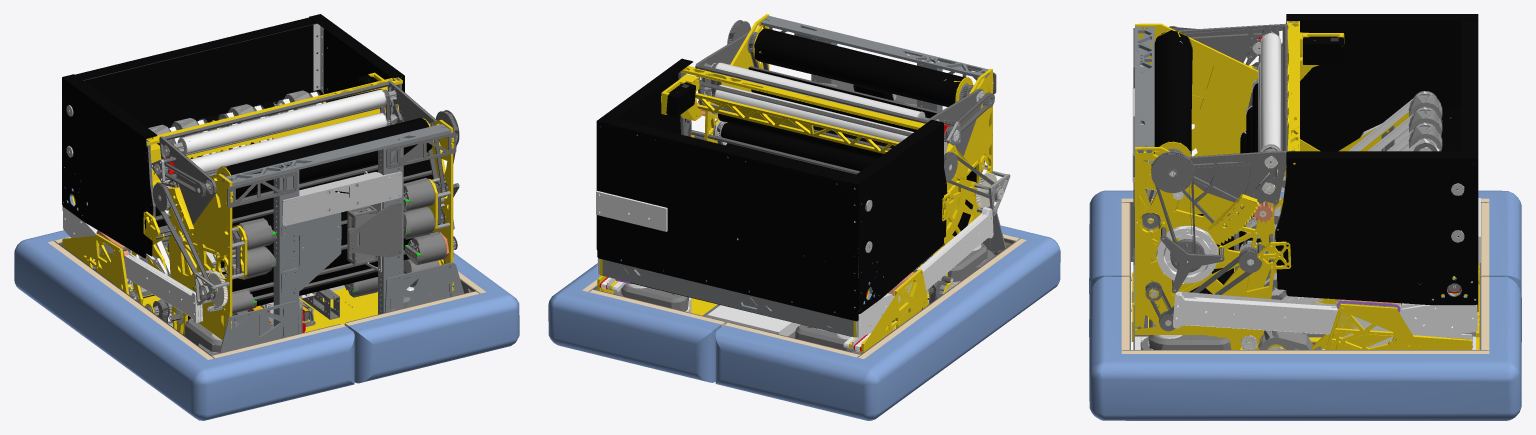
Rendered from ChisyPufs.fbx.
The picture shows the model from 3 angles, left to right: view 1: azimuth 30°, elevation 25°; view 2: azimuth 150°, elevation 25°; view 3: azimuth 270°, elevation 25°; orthographic projection. The views are drawn at different scales.
Parts seen in each view (by area): view 1: Bumper foam-01, 3354-2026-CS2-2000-PC 1.5mm N1-1, 3354-2026-CS2-2000-PC 1.5mm N1-3, Bumper foam-02, 3354-2026CS-4000-PL_70_1/4_AL-07, Policarbonate Tube, Part 1.004, 3354-2026-CS2-LL-PETG-1, 3354-2026CS-4000-PL_1.5M_PC-03, Part 1.003, Part 1.008, 3354-2026CS-4000-PL_70_1/4_AL-05 (+38 smaller); view 2: 3354-2026-CS2-2000-PC 1.5mm N1-1, Bumper foam-01, 3354-2026-CS2-2000-PC 1.5mm N1-3, Bumper foam-02, Policarbonate Tube, 3354-2026-CS2-2000-AL7075-0.25-2.001, 3354-2026CS-4000-PL_70_1/4_AL-07, 3354-2026CS-4000-PL_70_1/4_AL-12, 3354-2026CS-4000-PL_70_1/4_AL-05, 3354-2026-CS2-2000-PC-6mm-6, Part 1.006, Part 1.003 (+26 smaller); view 3: Bumper foam-02, 3354-2026-CS2-2000-PC 1.5mm N1-2, 3354-2026CS-4000-PL_1.5M_PC-02, 3354-2026CS-4000-PL_70_1/4_AL-01, 3354-2026-CS2-2000-PC-6mm-1, 3354-2026CS-4000-PL_70_1/4_AL-07, Bumper foam-01, Policarbonate Tube, 3354-2026-CS2-4000-Hood-AL7075 - 1/4-1.001, 3354-2026-CS2-2000-AL7075-0.25-1, 3354-2026CS-4000-PL_70_1/4_AL-05, 3354-2026-CS2-2000-PC 1.5mm N1-1 (+35 smaller).
Part boxes in pixels (x1,y1,x2,y2): Bumper foam-01: [14, 230, 354, 420]; 3354-2026-CS2-2000-PC 1.5mm N1-1: [62, 17, 318, 210]; 3354-2026-CS2-2000-PC 1.5mm N1-3: [62, 74, 157, 258]; Bumper foam-02: [348, 253, 519, 383]; 3354-2026CS-4000-PL_70_1/4_AL-07: [168, 173, 232, 340]; Policarbonate Tube: [221, 118, 432, 197]; Part 1.004: [181, 89, 385, 154]; 3354-2026-CS2-LL-PETG-1: [282, 171, 402, 225]; 3354-2026CS-4000-PL_1.5M_PC-03: [220, 152, 434, 296]; Part 1.003: [190, 113, 386, 173]; Part 1.008: [281, 212, 341, 294]; 3354-2026CS-4000-PL_70_1/4_AL-05: [222, 124, 450, 185]; 3354-2026-CS2-2000-PC 1.5mm N1-1: [597, 119, 858, 321]; Bumper foam-01: [715, 225, 1060, 420]; 3354-2026-CS2-2000-PC 1.5mm N1-3: [847, 120, 943, 314]; Bumper foam-02: [548, 263, 721, 382]; Policarbonate Tube: [754, 28, 965, 106]; 3354-2026-CS2-2000-AL7075-0.25-2.001: [602, 259, 853, 336]; 3354-2026CS-4000-PL_70_1/4_AL-07: [930, 68, 993, 285]; 3354-2026CS-4000-PL_70_1/4_AL-12: [695, 92, 899, 153]; 3354-2026CS-4000-PL_70_1/4_AL-05: [760, 16, 990, 78]; 3354-2026-CS2-2000-PC-6mm-6: [856, 208, 993, 337]; Part 1.006: [720, 122, 876, 171]; Part 1.003: [715, 85, 913, 145]; Bumper foam-02: [1089, 276, 1521, 420]; 3354-2026-CS2-2000-PC 1.5mm N1-2: [1286, 151, 1478, 305]; 3354-2026CS-4000-PL_1.5M_PC-02: [1300, 25, 1461, 151]; 3354-2026CS-4000-PL_70_1/4_AL-01: [1134, 147, 1275, 349]; 3354-2026-CS2-2000-PC-6mm-1: [1173, 294, 1477, 337]; 3354-2026CS-4000-PL_70_1/4_AL-07: [1135, 23, 1263, 248]; Bumper foam-01: [1089, 190, 1521, 295]; Policarbonate Tube: [1153, 30, 1192, 161]; 3354-2026-CS2-4000-Hood-AL7075 - 1/4-1.001: [1182, 150, 1286, 226]; 3354-2026-CS2-2000-AL7075-0.25-1: [1325, 303, 1472, 349]; 3354-2026CS-4000-PL_70_1/4_AL-05: [1135, 26, 1154, 152]; 3354-2026-CS2-2000-PC 1.5mm N1-1: [1461, 20, 1478, 311].
Size of the model in its own units: 83.74 by 56.15 by 83.84.
